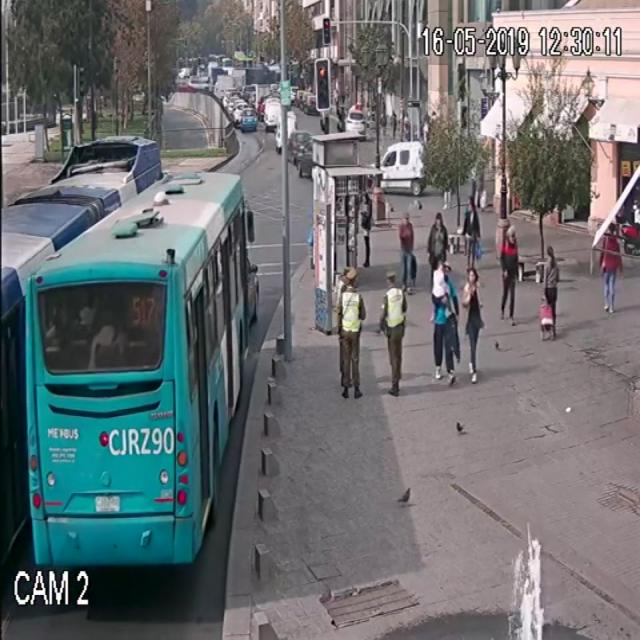AB: (1, 130, 163, 569)
